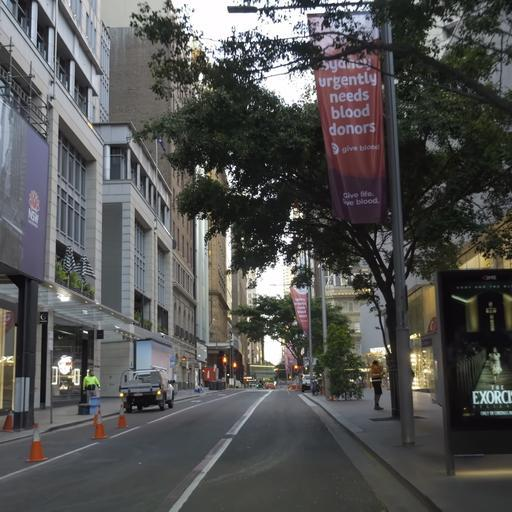Street light: (225, 0, 416, 445)
